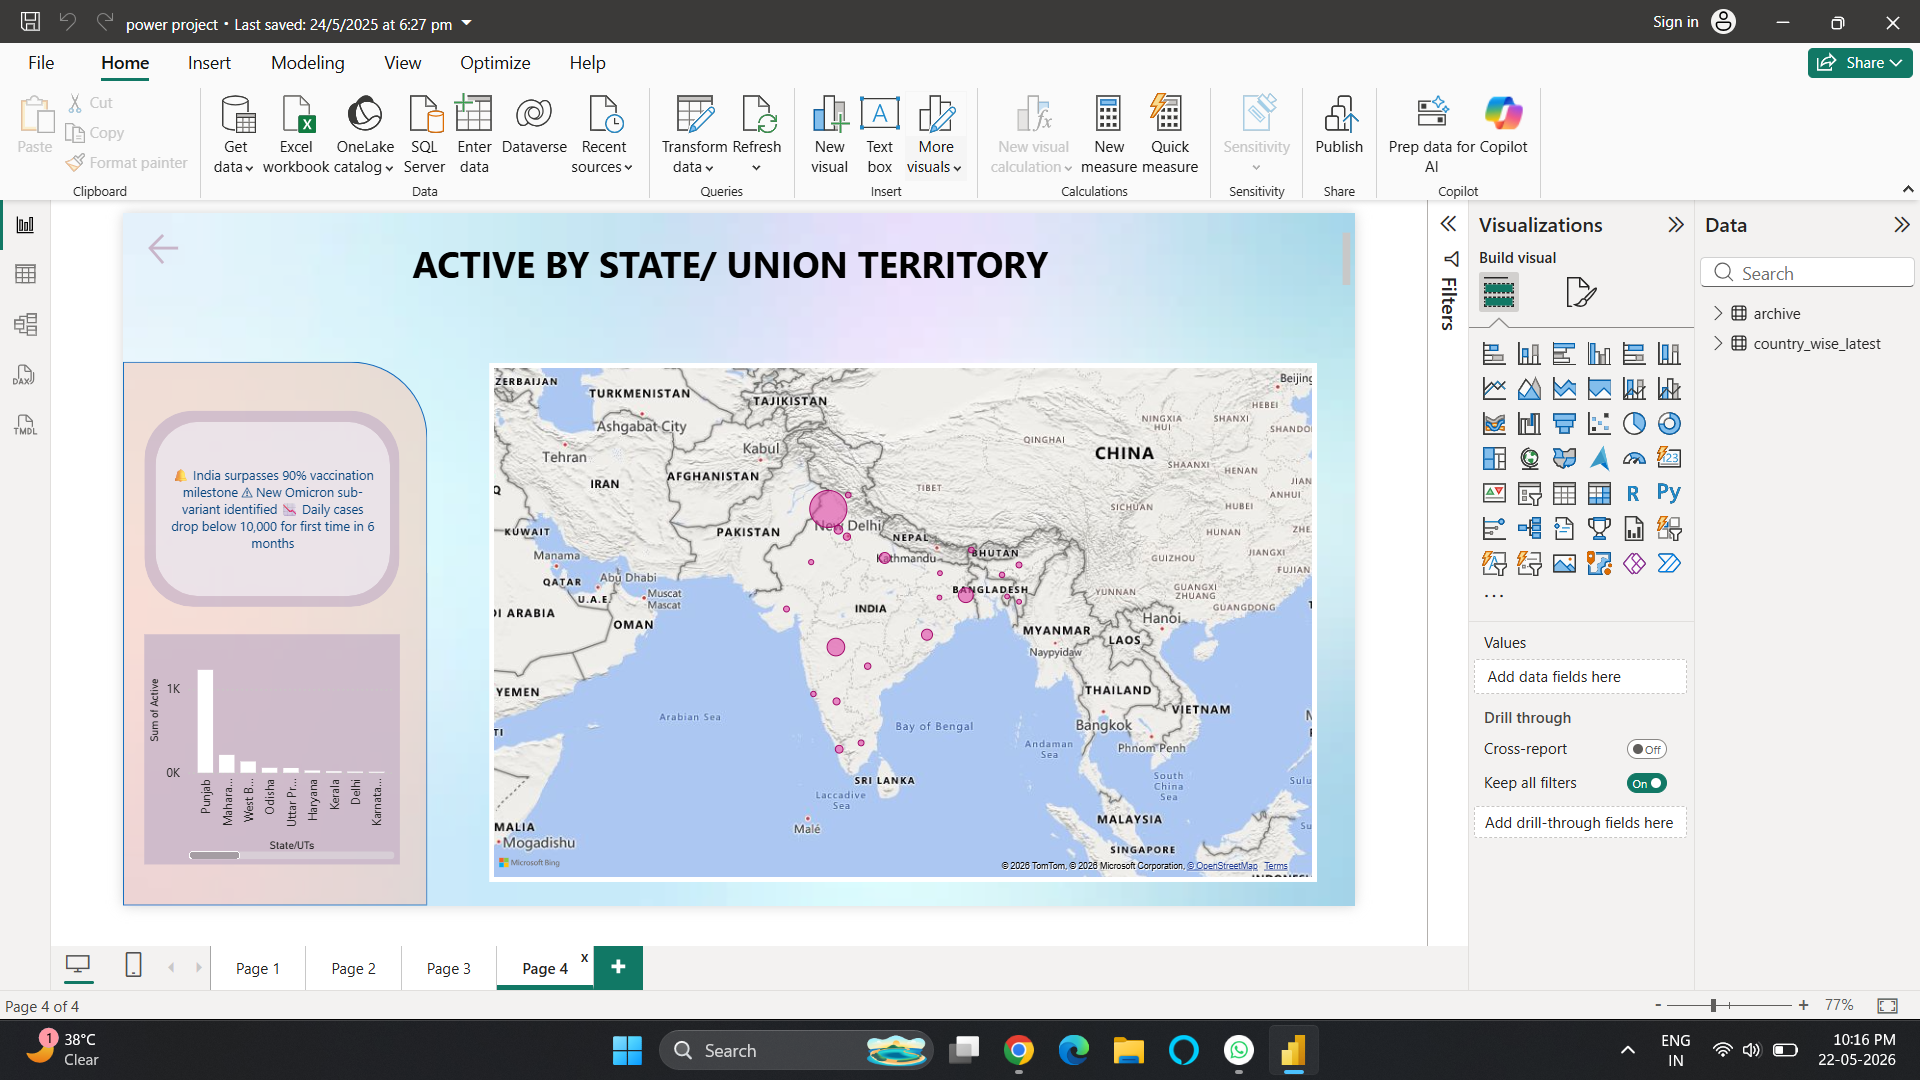

The dashboard page shown, as its layout file describes it:
{"tool":"powerbi","page":{"name":"Page 4","canvas":[1280,720],"ordinal":3},"visuals":[{"type":"map","fields":{"Size":["Sum(archive.Active)"],"Category":["archive.State/UTs"]},"box":[380.6,155.6,859.7,538.9],"z":0},{"type":"textbox","box":[151.9,16,1128.4,65.4],"z":1000},{"type":"actionButton","box":[22.5,16.2,100,41.2],"z":2000},{"type":"shape","box":[0,155,316.2,565],"z":3000},{"type":"shape","box":[22.2,205.6,265.3,204.2],"z":4000},{"type":"clusteredColumnChart","fields":{"Y":["Sum(archive.Active)"],"Category":["archive.State/UTs"]},"box":[22.2,437.5,265.3,238.9],"z":5000},{"type":"shape","box":[33.8,217.5,243.8,181.2],"z":6000}]}

Visuals, with their boxes on the page's 1280x720 design canvas (x1, y1, x2, y2). These are canvas units, not pixel positions in the 1920x1080 screenshot, which may show the page scaled, cropped or inside an application window:
map - Sum(archive.Active) x archive.State/UTs: (381,156,1240,694)
textbox: (152,16,1280,81)
actionButton: (22,16,122,57)
shape: (0,155,316,720)
shape: (22,206,288,410)
clusteredColumnChart - Sum(archive.Active) x archive.State/UTs: (22,438,288,676)
shape: (34,218,278,399)
